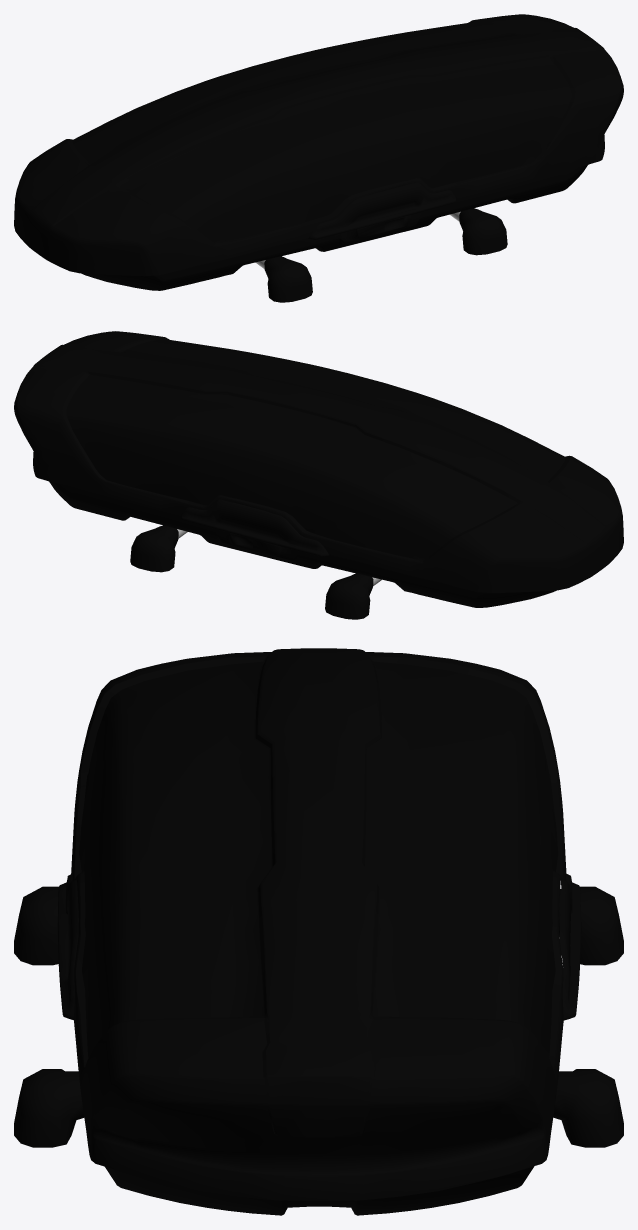
Rendered from ----629800_Thule_Motion-XT_XL_Low-V1.glb.
The picture shows the model from 3 angles, top to bottom: view 1: azimuth 30°, elevation 25°; view 2: azimuth 150°, elevation 25°; view 3: azimuth 270°, elevation 25°; orthographic projection. The views are drawn at different scales.
Visible parts, largest first — view 1: XT_XL_low, Box013, Box011; view 2: XT_XL_low, Box012, Box010; view 3: XT_XL_low, Box012, Box013, Box010, Box011.
Part boxes in pixels (x1=…): XT_XL_low: x1=14, y1=14, x2=623, y2=290; Box013: x1=459, y1=208, x2=507, y2=255; Box011: x1=264, y1=256, x2=312, y2=302; XT_XL_low: x1=14, y1=331, x2=623, y2=607; Box012: x1=130, y1=525, x2=178, y2=572; Box010: x1=325, y1=573, x2=373, y2=619; XT_XL_low: x1=57, y1=648, x2=581, y2=1215; Box012: x1=553, y1=1069, x2=623, y2=1147; Box013: x1=14, y1=1069, x2=84, y2=1147; Box010: x1=558, y1=886, x2=623, y2=965; Box011: x1=14, y1=886, x2=78, y2=965.
Bounding box in the file's own units: 0.1716 × 0.0396 × 0.0848.
Materials: 4 (2 with a texture image).
